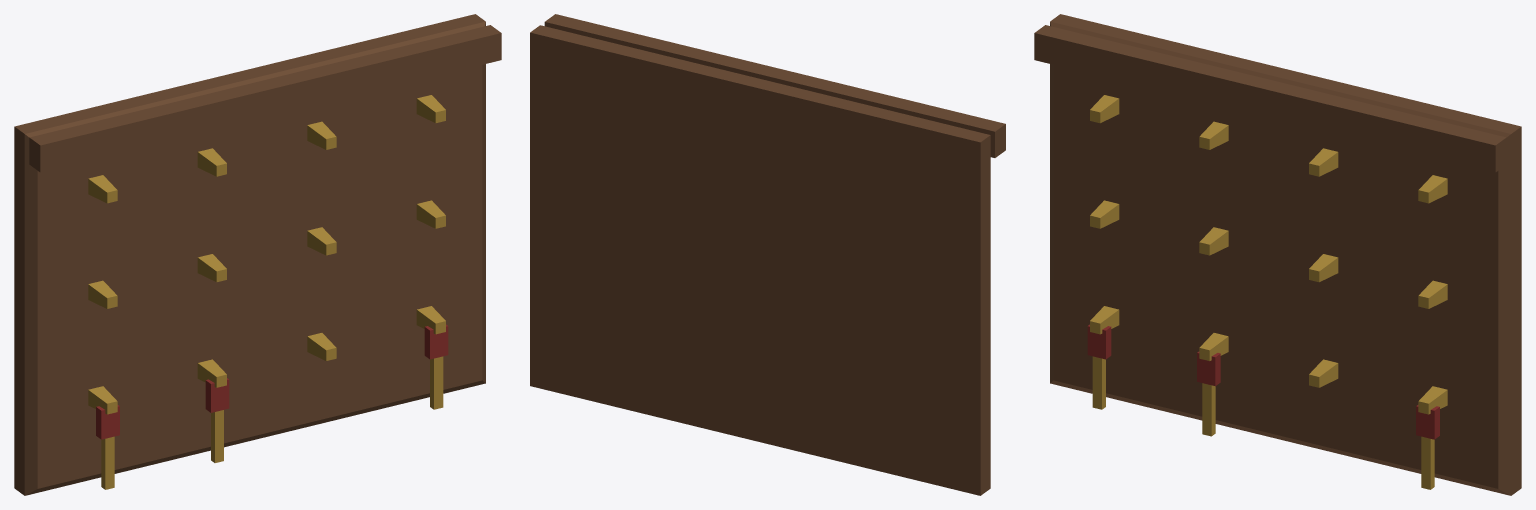
File: prop-key-rack.glb
3 renders of one model, left to right at view 1: azimuth 30°, elevation 25°; view 2: azimuth 150°, elevation 25°; view 3: azimuth 330°, elevation 25°, orthographic. The views are drawn at different scales.
Visible parts, largest first — view 1: prop-key-rack; view 2: prop-key-rack; view 3: prop-key-rack.
Boxes of the visible parts, <box> form: prop-key-rack: <box>14,14,501,495</box>; prop-key-rack: <box>530,14,1005,495</box>; prop-key-rack: <box>1034,14,1521,495</box>.
Bounding box in the file's own units: 0.8 × 0.6 × 0.095.
